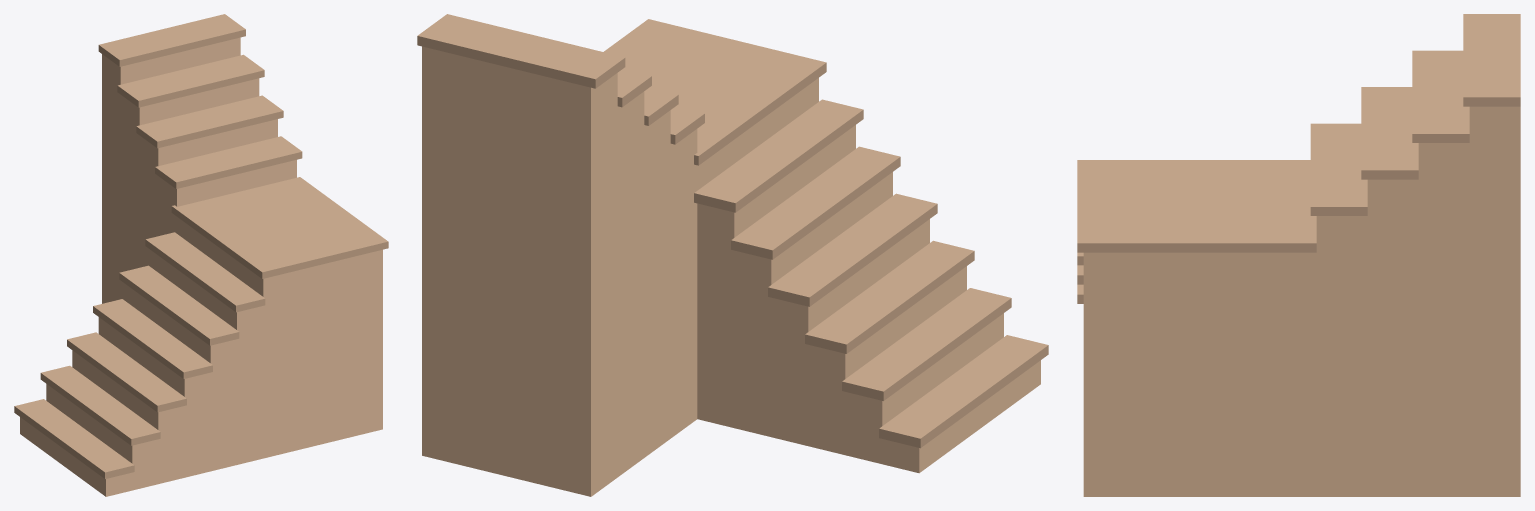
The model's file is kn-stairs-corner.glb.
3 views of the same model, side by side, from view 1: azimuth 30°, elevation 25°; view 2: azimuth 150°, elevation 25°; view 3: azimuth 270°, elevation 25° (orthographic). The views are drawn at different scales.
Visible parts, largest first — view 1: stairsCorner(Clone); view 2: stairsCorner(Clone); view 3: stairsCorner(Clone).
Part boxes in pixels (x1,y1,x2,y2): stairsCorner(Clone): (14,14,388,496); stairsCorner(Clone): (417,14,1048,496); stairsCorner(Clone): (1077,14,1520,496).
Size of the model in its own units: 1 by 1 by 1.
